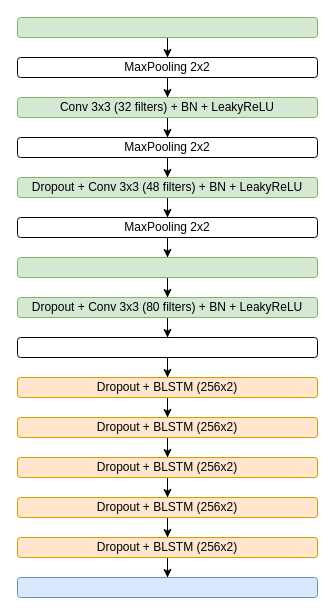
The diagram is 335 pixels wide and 615 high, and some of its shapes have lost their labels. Here are the shapes that lost their labels. From the top down, the box of each, then its label:
(16, 16, 318, 38): Conv 3x3 (16 filters) + BN + LeakyReLU
(16, 256, 318, 278): Dropout + Conv 3x3 (64 filters) + BN + LeakyReLU
(16, 336, 318, 358): Tiling
(16, 576, 318, 598): Dropout + Dense + Softmax
